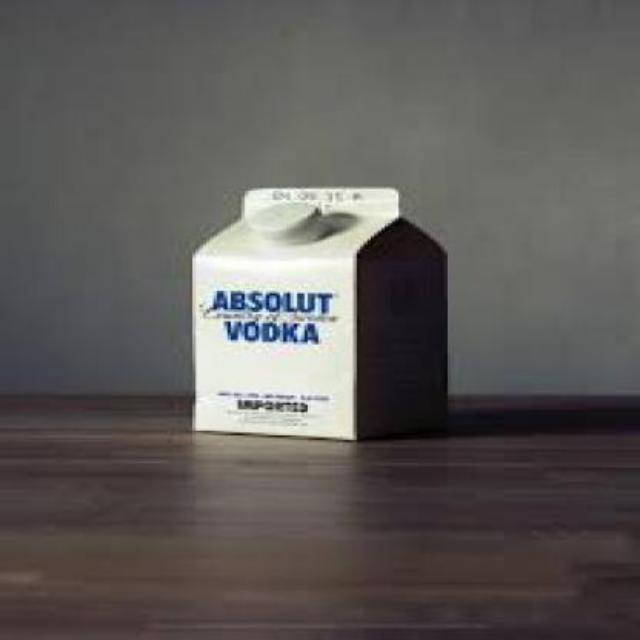caixinha: (193, 188, 449, 442)
tampa plástica: (248, 200, 322, 242)
